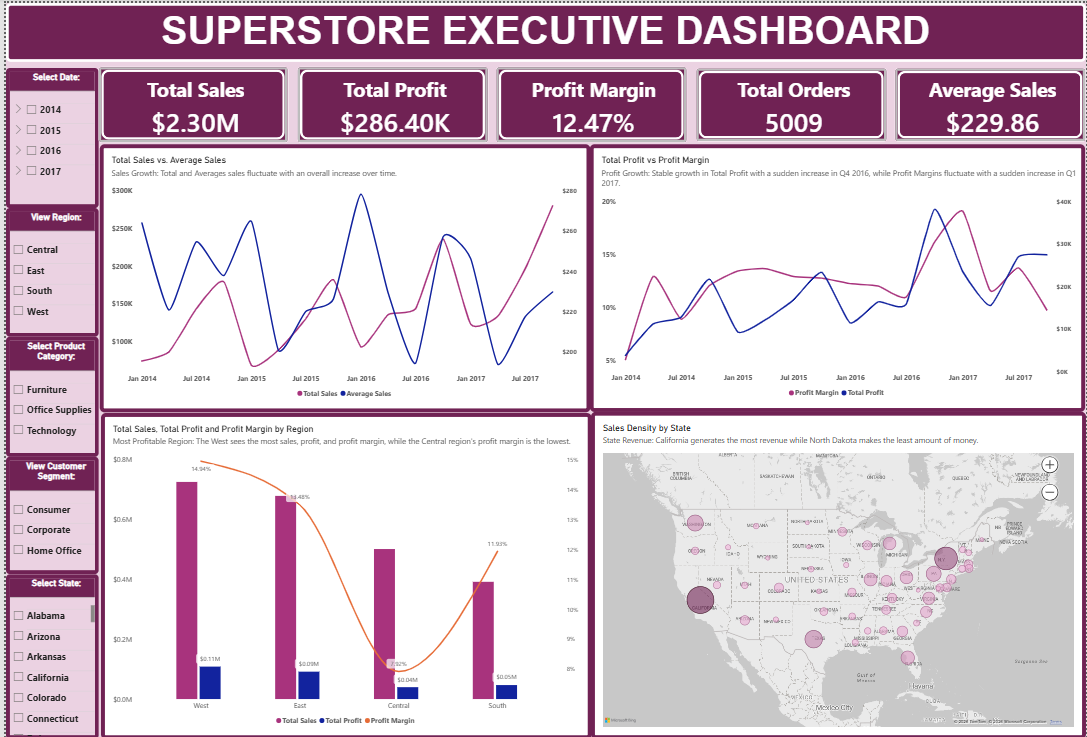

What the dashboard file says about the page in this screenshot:
{"tool":"powerbi","page":{"name":"Executive Dashboard","canvas":[2200,1500],"ordinal":0},"visuals":[{"type":"cardVisual","title":"AVERAGE SALES","fields":{"Data":["Calculations.Average Sales"]},"box":[1811.7,132.4,389.4,150.3],"z":0,"group":"g1"},{"type":"map","title":"Sales Density by State","fields":{"Category":["Superstore.State"],"Size":["Calculations.Total Sales"]},"box":[1192.3,833.1,1008.8,667.5],"z":0},{"type":"cardVisual","fields":{"Data":["Calculations.Total Profit"]},"box":[592.5,129.9,389.4,155.4],"z":1000,"group":"g1"},{"type":"slicer","title":"View Region:","fields":{"Values":["Superstore.Region"]},"box":[0,417.8,188.5,262.4],"z":1000},{"type":"cardVisual","fields":{"Data":["Calculations.Total Sales"]},"box":[188.5,129.9,386.9,155.4],"z":2000,"group":"g1"},{"type":"lineClusteredColumnComboChart","title":"Total Sales, Total Profit and Profit Margin by Region","fields":{"Category":["Superstore.Region"],"Y":["Calculations.Total Sales","Calculations.Total Profit"],"Y2":["Calculations.Profit Margin"]},"box":[192.5,835,1000,665],"z":2000},{"type":"lineChart","title":"Total Sales vs. Average Sales ","fields":{"Category":["Date.Date.Variation.Date Hierarchy.Year","Date.Date.Variation.Date Hierarchy.Quarter","Date.Date.Variation.Date Hierarchy.Month","Date.Date.Variation.Date Hierarchy.Day"],"Y":["Calculations.Total Sales"],"Y2":["Calculations.Average Sales"]},"box":[192,288,1000,546],"z":3000,"group":"g2"},{"type":"slicer","title":"View Customer Segment:","fields":{"Values":["Superstore.Segment"]},"box":[0,924.8,188.5,239.5],"z":3000},{"type":"slicer","title":"Select Date:","fields":{"Values":["Date.Date.Variation.Date Hierarchy.Year","Date.Date.Variation.Date Hierarchy.Quarter","Date.Date.Variation.Date Hierarchy.Month","Date.Date.Variation.Date Hierarchy.Day"]},"box":[0,132.5,188.5,285.3],"z":4000},{"type":"lineChart","title":"Total Profit vs Profit Margin","fields":{"Category":["Date.Date.Variation.Date Hierarchy.Year","Date.Date.Variation.Date Hierarchy.Quarter","Date.Date.Variation.Date Hierarchy.Month","Date.Date.Variation.Date Hierarchy.Day"],"Y":["Calculations.Profit Margin"],"Y2":["Calculations.Total Profit"]},"box":[1191.7,287,1009.4,545.2],"z":4000,"group":"g2"},{"type":"slicer","title":"Select Product Category:","fields":{"Values":["Superstore.Category"]},"box":[0,680.2,188.5,244.6],"z":5000},{"type":"cardVisual","fields":{"Data":["Calculations.Measure"]},"box":[998.9,129.9,389.4,155.4],"z":6000,"group":"g1"},{"type":"slicer","title":"Select State:","fields":{"Values":["Superstore.State"]},"box":[0,1164.2,188.5,336.3],"z":6000},{"type":"textbox","box":[0,0,2201.1,119.7],"z":7000},{"type":"group","id":"g1","title":"Group 1","box":[188.5,129.9,2012.6,155.4],"z":8000},{"type":"group","id":"g2","title":"Group 2","box":[192,287,2009.1,547],"z":9000},{"type":"cardVisual","fields":{"Data":["Calculations.Total Orders"]},"box":[1405.3,132.4,389.4,150.3],"z":15000,"group":"g1"}]}

Visuals, with their boxes in screenshot pixels (x1, y1, x2, y2), scaled from the page's 2200x1500 canvas onto the 1087x737 screenshot:
"AVERAGE SALES" cardVisual: {"x1": 895, "y1": 65, "x2": 1086, "y2": 139}
"Sales Density by State" map: {"x1": 589, "y1": 409, "x2": 1086, "y2": 736}
cardVisual - Calculations.Total Profit: {"x1": 293, "y1": 64, "x2": 485, "y2": 140}
"View Region:" slicer: {"x1": 0, "y1": 205, "x2": 93, "y2": 334}
cardVisual - Calculations.Total Sales: {"x1": 93, "y1": 64, "x2": 284, "y2": 140}
"Total Sales, Total Profit and Profit Margin by Region" lineClusteredColumnComboChart: {"x1": 95, "y1": 410, "x2": 589, "y2": 736}
"Total Sales vs. Average Sales " lineChart: {"x1": 95, "y1": 142, "x2": 589, "y2": 410}
"View Customer Segment:" slicer: {"x1": 0, "y1": 454, "x2": 93, "y2": 572}
"Select Date:" slicer: {"x1": 0, "y1": 65, "x2": 93, "y2": 205}
"Total Profit vs Profit Margin" lineChart: {"x1": 589, "y1": 141, "x2": 1086, "y2": 409}
"Select Product Category:" slicer: {"x1": 0, "y1": 334, "x2": 93, "y2": 454}
cardVisual - Calculations.Measure: {"x1": 494, "y1": 64, "x2": 686, "y2": 140}
"Select State:" slicer: {"x1": 0, "y1": 572, "x2": 93, "y2": 736}
textbox: {"x1": 0, "y1": 0, "x2": 1086, "y2": 59}
"Group 1" group: {"x1": 93, "y1": 64, "x2": 1086, "y2": 140}
"Group 2" group: {"x1": 95, "y1": 141, "x2": 1086, "y2": 410}
cardVisual - Calculations.Total Orders: {"x1": 694, "y1": 65, "x2": 887, "y2": 139}
